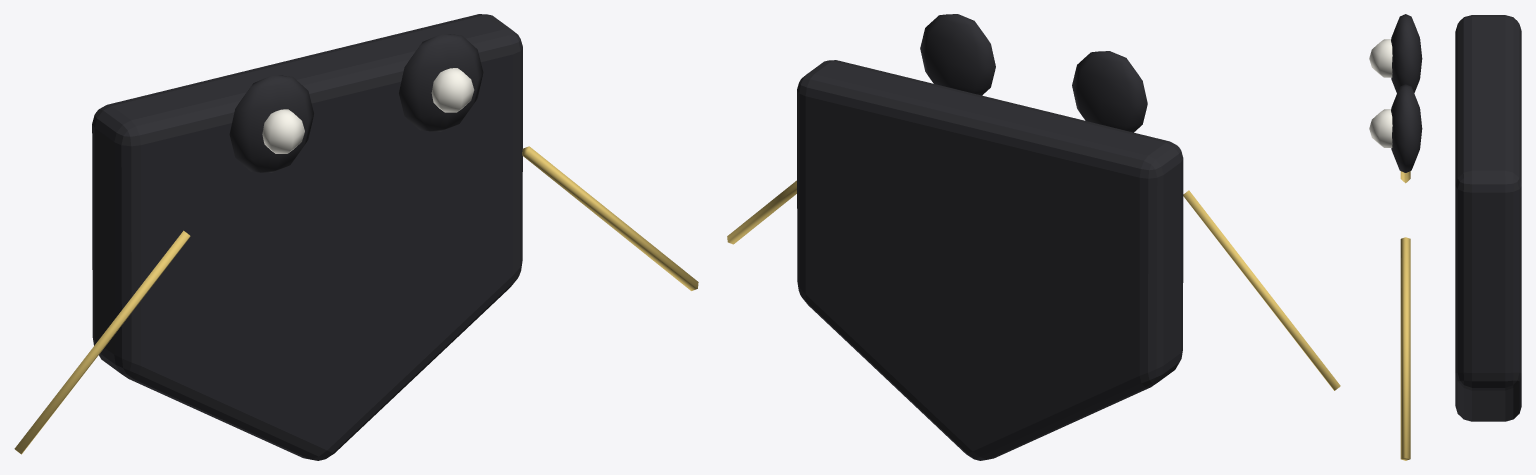
The model's file is mask_venetian_black.glb.
3 views of the same model, side by side, from view 1: azimuth 30°, elevation 25°; view 2: azimuth 150°, elevation 25°; view 3: azimuth 270°, elevation 25° (orthographic). The views are drawn at different scales.
Parts seen in each view (by area): view 1: GD_mask_venetian_black__m0, GD_mask_venetian_black__m2, GD_mask_venetian_black__m1; view 2: GD_mask_venetian_black__m0, GD_mask_venetian_black__m2; view 3: GD_mask_venetian_black__m0, GD_mask_venetian_black__m2, GD_mask_venetian_black__m1.
Part boxes in pixels (x1,y1,x2,y2): GD_mask_venetian_black__m0: [92, 14, 522, 460]; GD_mask_venetian_black__m2: [14, 146, 698, 454]; GD_mask_venetian_black__m1: [262, 68, 474, 153]; GD_mask_venetian_black__m0: [797, 14, 1183, 460]; GD_mask_venetian_black__m2: [727, 180, 1340, 390]; GD_mask_venetian_black__m0: [1391, 14, 1521, 421]; GD_mask_venetian_black__m2: [1400, 171, 1410, 460]; GD_mask_venetian_black__m1: [1369, 39, 1392, 147].
Bounding box in the file's own units: 0.4042 × 0.2442 × 0.092.
